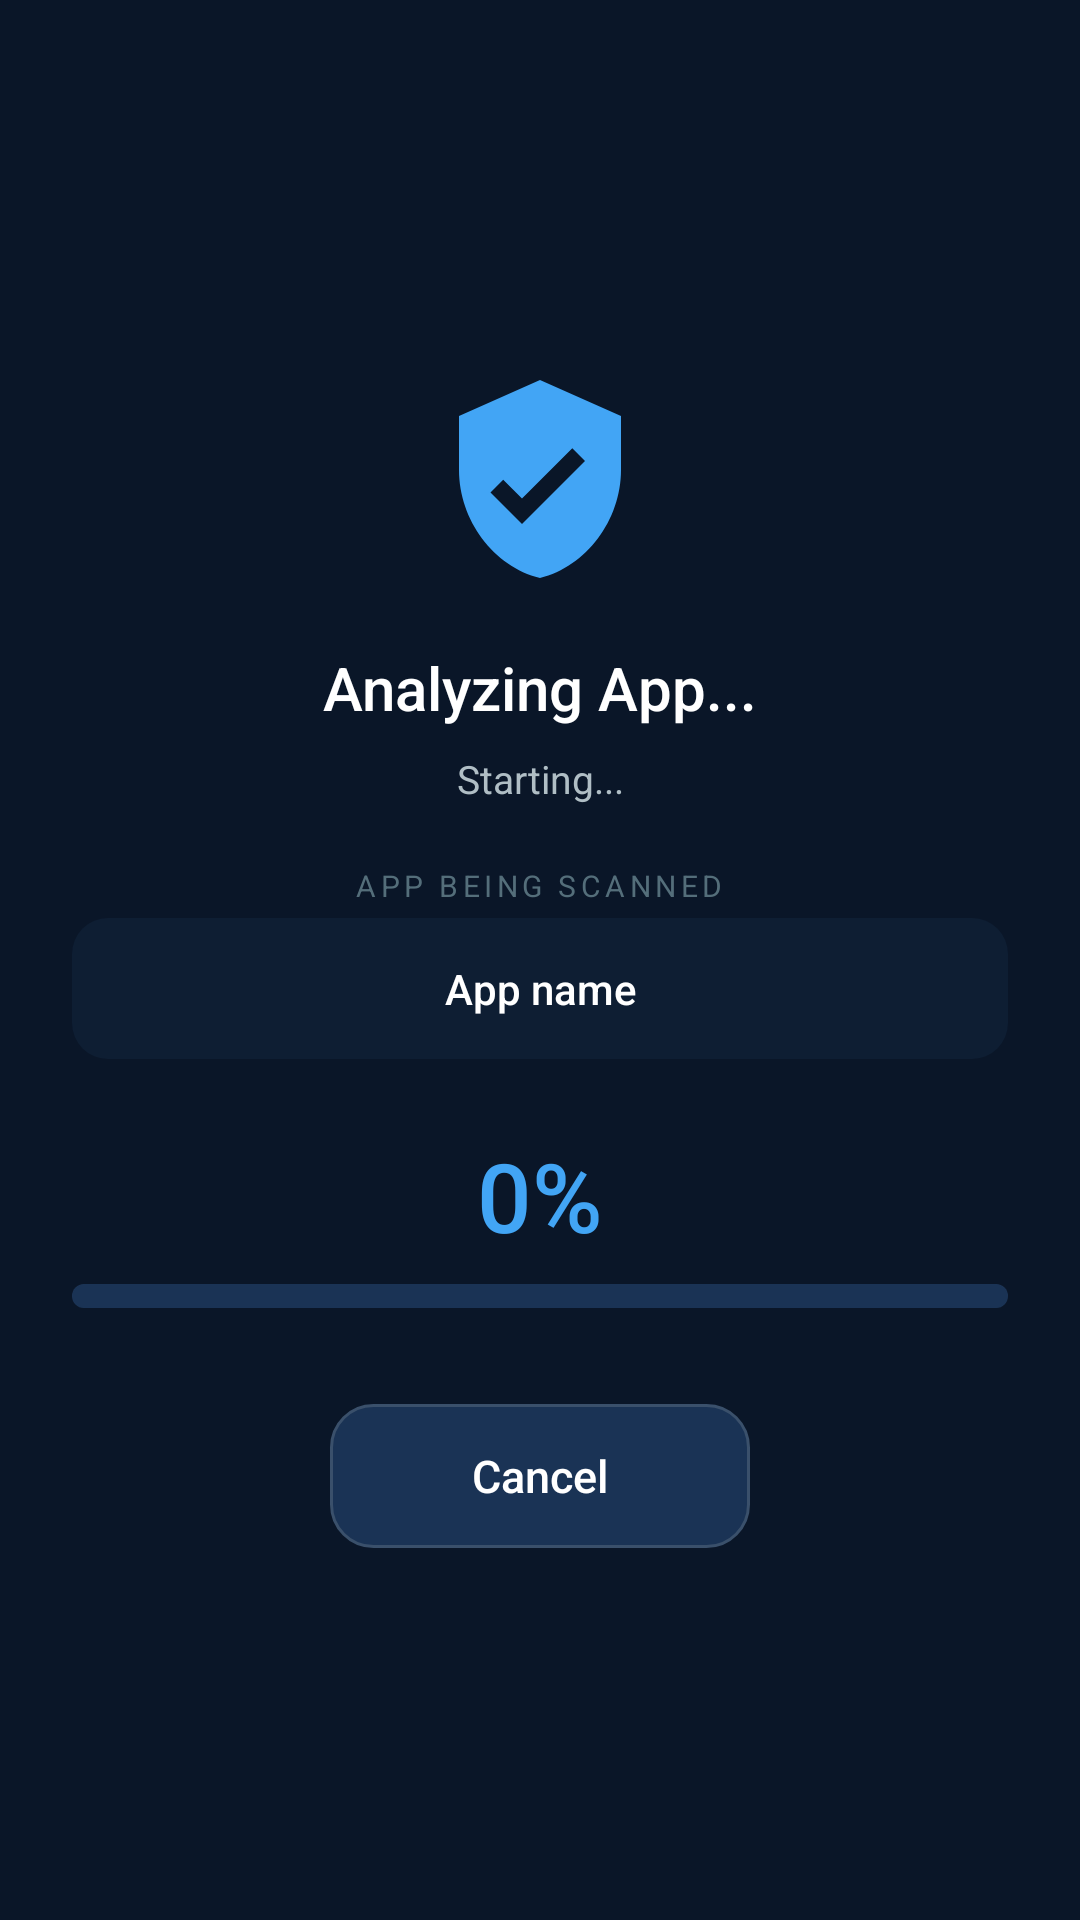

Icon bounding boxes for this 1080*1920 phone screenshot, format rect(x1, y1, x2, y2):
shield: rect(459, 380, 621, 578)
